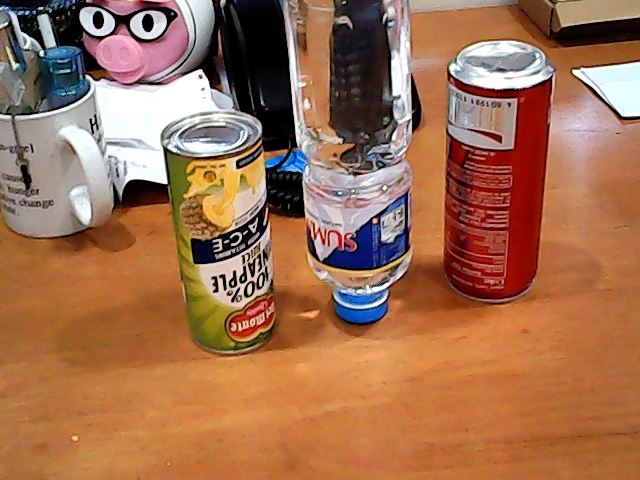Cola: (429, 25, 563, 311)
Pine Juice: (139, 98, 291, 357)
Summit Water: (294, 1, 426, 334)
